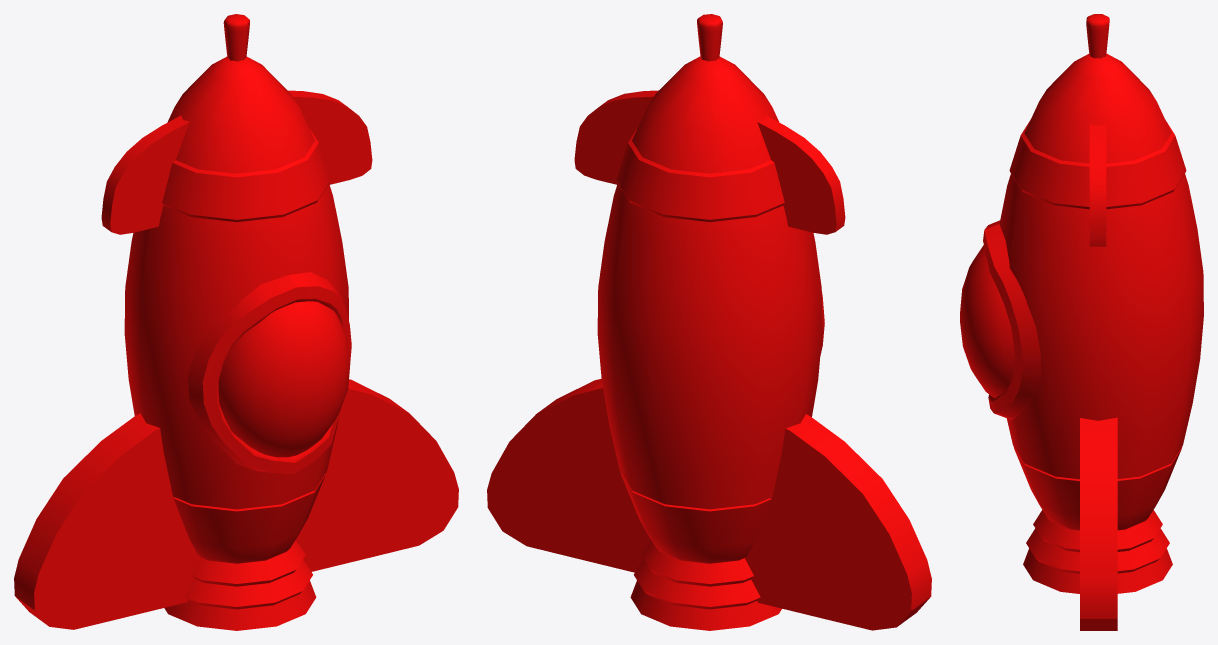
Rendered from Rocket.FBX.
3 renders of one model, left to right at view 1: azimuth 30°, elevation 25°; view 2: azimuth 150°, elevation 25°; view 3: azimuth 270°, elevation 25°, orthographic. The views are drawn at different scales.
Visible parts, largest first — view 1: Rocket_body, Rocket_glass; view 2: Rocket_body; view 3: Rocket_body, Rocket_glass.
Part boxes in pixels (bbox=[...]): Rocket_body: bbox=[14, 14, 458, 630]; Rocket_glass: bbox=[218, 301, 350, 457]; Rocket_body: bbox=[487, 14, 931, 630]; Rocket_body: bbox=[983, 14, 1203, 630]; Rocket_glass: bbox=[960, 245, 1014, 397].
Bounding box in the file's own units: 147 × 192 × 77.41.
